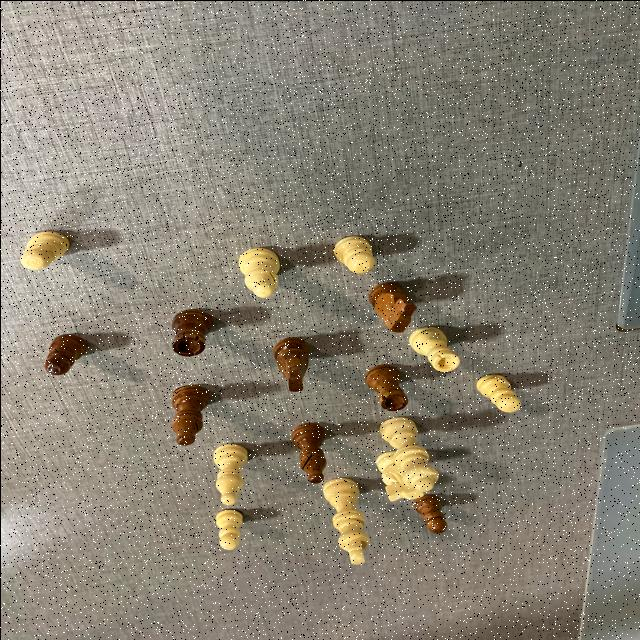Black-Bishop: (168, 383, 212, 447), (290, 423, 326, 483)
Black-Knight: (368, 282, 416, 332), (268, 339, 312, 392)
Black-Pawn: (43, 333, 86, 378), (414, 492, 446, 534)
Black-Rook: (167, 312, 215, 354), (364, 366, 406, 410)
White-Bishop: (208, 444, 250, 504), (238, 248, 282, 298)
White-King: (322, 478, 368, 568)
White-Knight: (376, 448, 415, 502)
White-Pawn: (473, 374, 519, 413), (21, 230, 68, 268), (330, 236, 376, 272), (212, 509, 245, 548)
White-Queen: (378, 416, 441, 484)
White-Rook: (408, 327, 462, 372)
